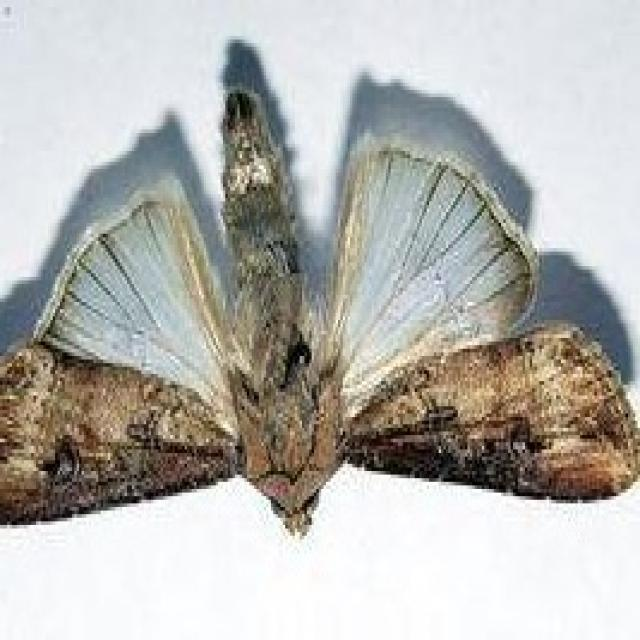black cutworm: (1, 50, 634, 550)
